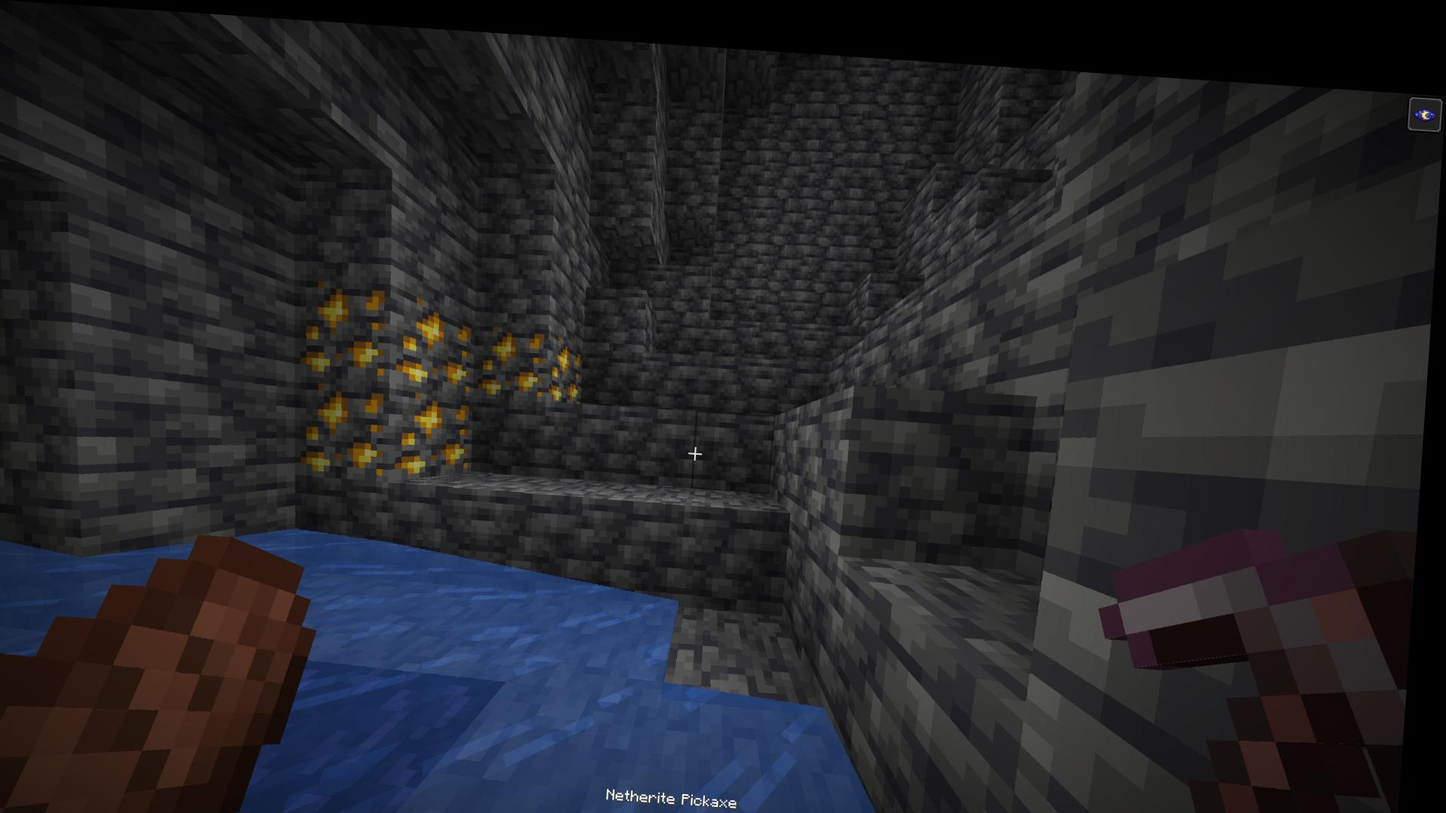gold ore: (392, 282, 482, 391), (302, 275, 396, 376), (304, 373, 393, 478), (393, 384, 482, 474), (475, 316, 552, 395), (541, 325, 593, 400)
